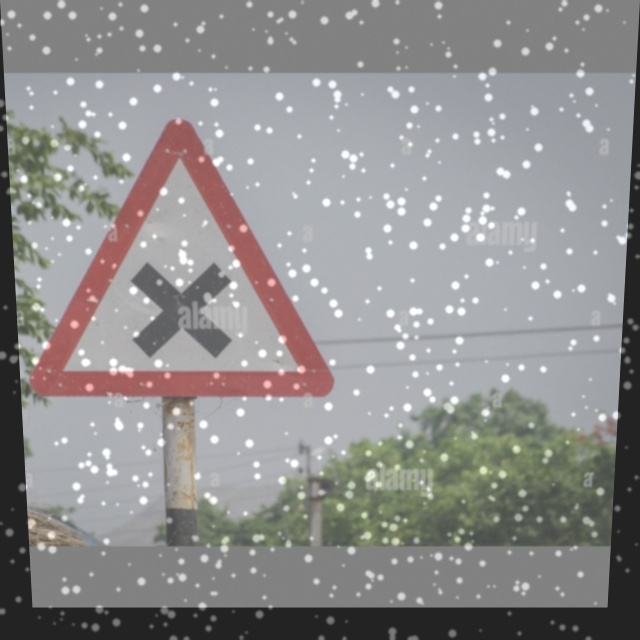Cross_Road: (37, 133, 333, 395)
